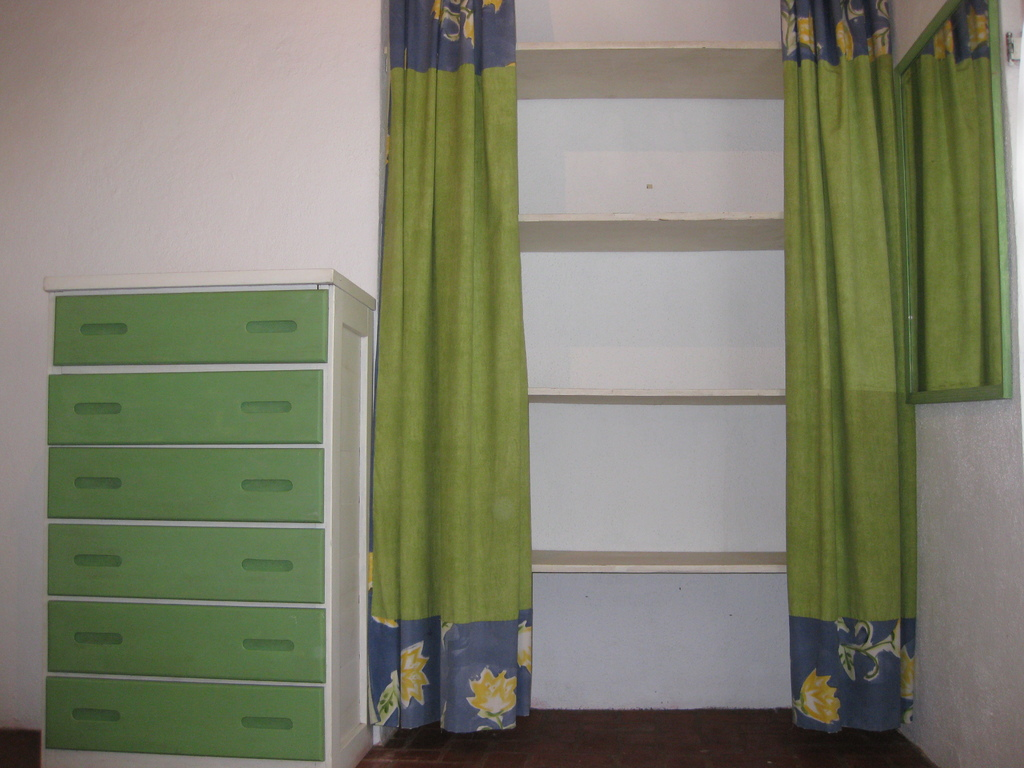cabinet door: (56, 679, 322, 752), (50, 601, 322, 672), (54, 527, 328, 594), (52, 457, 318, 519), (44, 381, 318, 438), (59, 300, 322, 359)
handle: (240, 474, 303, 506), (237, 705, 298, 737), (65, 624, 126, 655), (243, 633, 298, 660), (68, 546, 123, 572), (235, 398, 296, 421), (64, 702, 122, 725), (73, 393, 122, 420), (246, 319, 308, 340), (242, 555, 295, 579), (71, 477, 120, 498), (80, 319, 132, 337)
